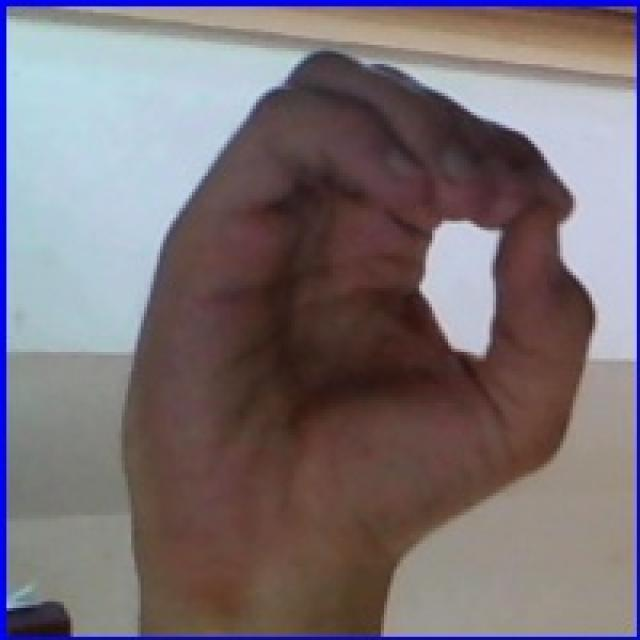Letra-O: (94, 40, 612, 630)
